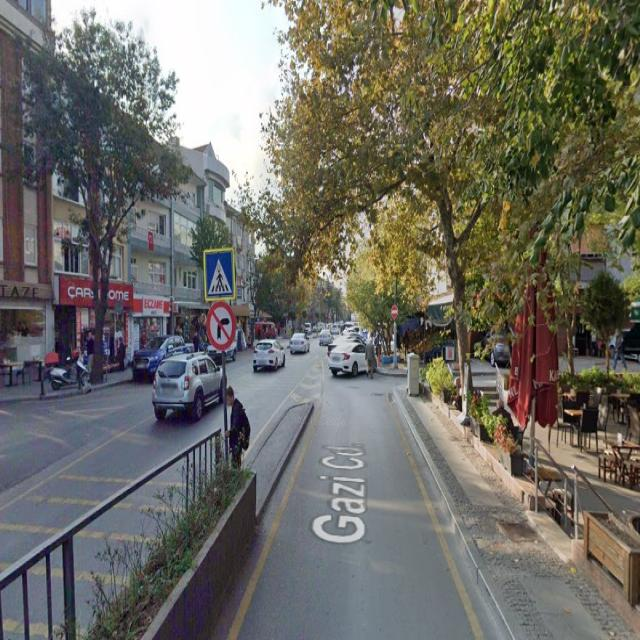girisyok: (390, 306, 398, 320)
sagadonulmez: (206, 303, 235, 349)
